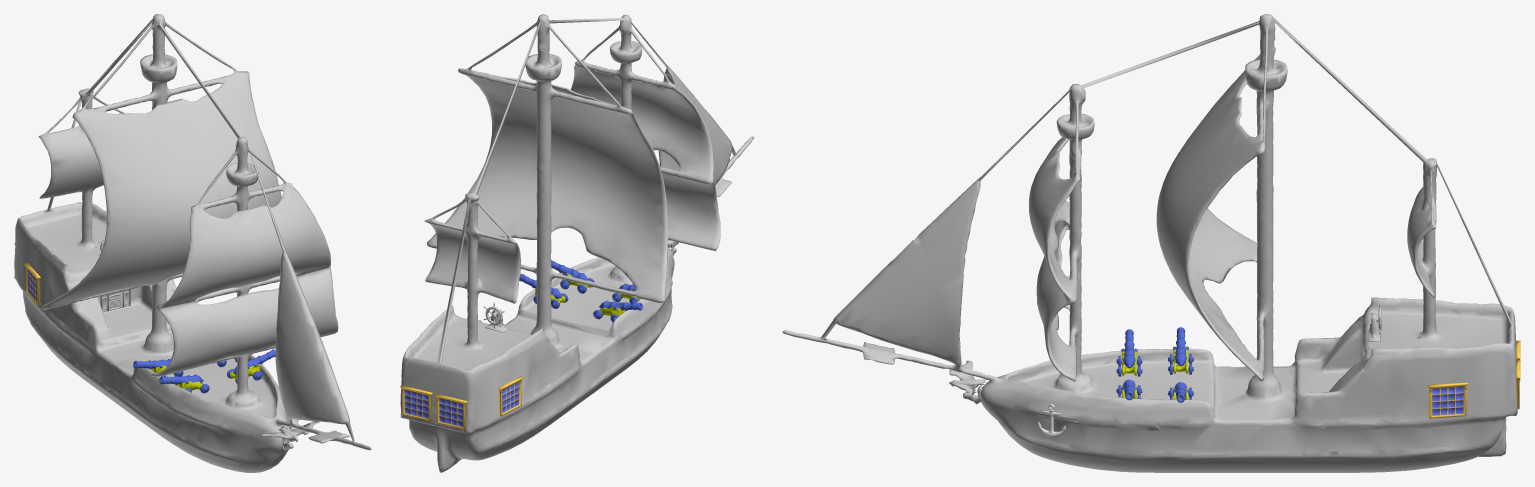
Rendered from shipFull.fbx.
3 renders of one model, left to right at view 1: azimuth 30°, elevation 25°; view 2: azimuth 150°, elevation 25°; view 3: azimuth 270°, elevation 25°, orthographic. The views are drawn at different scales.
Visible parts, largest first — view 1: ship.lp.001, cannon.lp.002, eagle.lp, door.lp, cannon.lp.001, window.lp.002, cannon.lp.003; view 2: ship.lp.001, window.lp.003, window.lp.001, window.lp.002, cannon.lp.003, cannon.lp.001, cannon.lp, wheel.lp; view 3: ship.lp.001, window.lp, cannon.lp.002, cannon.lp.003.
Boxes of the visible parts, x1,y1,x2,y2 form: ship.lp.001: (14,14,371,472); cannon.lp.002: (159,374,209,393); eagle.lp: (260,421,319,449); door.lp: (100,289,130,312); cannon.lp.001: (227,349,275,383); window.lp.002: (24,263,40,305); cannon.lp.003: (133,359,183,377); ship.lp.001: (400,14,753,472); window.lp.003: (434,393,467,429); window.lp.001: (400,385,432,421); window.lp.002: (498,376,523,416); cannon.lp.003: (593,300,642,322); cannon.lp.001: (551,260,594,293); cannon.lp: (519,274,568,308); wheel.lp: (483,302,508,332); ship.lp.001: (782,14,1517,472); window.lp: (1427,382,1468,418); cannon.lp.002: (1116,329,1142,376); cannon.lp.003: (1168,327,1193,374).
Size of the model in its own units: 81.85 by 129 by 191.
